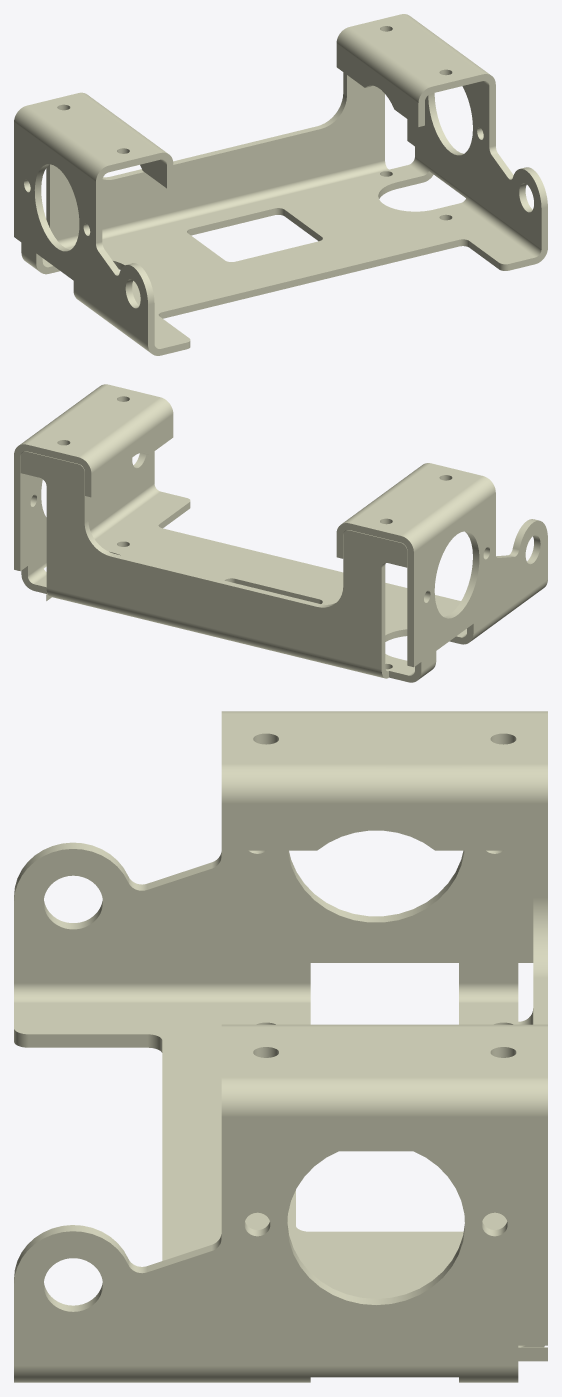
Rendered from Sheet Metal Bracket.glb.
3 renders of one model, top to bottom at view 1: azimuth 30°, elevation 25°; view 2: azimuth 150°, elevation 25°; view 3: azimuth 270°, elevation 25°, orthographic. The views are drawn at different scales.
Parts seen in each view (by area): view 1: Sheet Metal Bracket; view 2: Sheet Metal Bracket; view 3: Sheet Metal Bracket.
Part boxes in pixels (box(x1,y1,x2,y2)): Sheet Metal Bracket: box(14, 14, 547, 355); Sheet Metal Bracket: box(14, 384, 547, 682); Sheet Metal Bracket: box(14, 711, 547, 1382).
Size of the model in its own units: 0.124 by 0.045 by 0.072.
